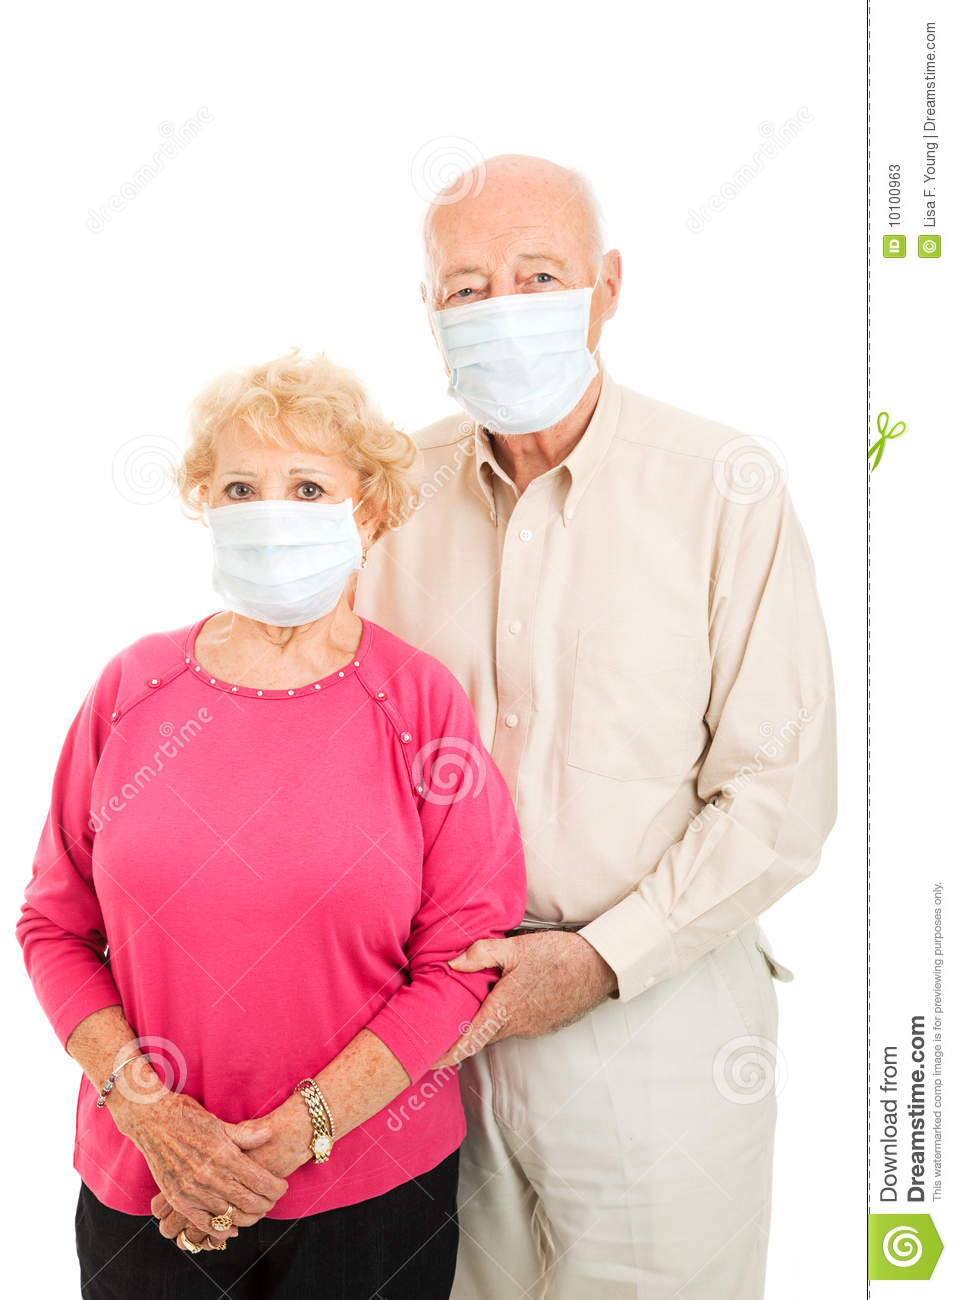mask: (432, 288, 608, 441), (198, 496, 364, 633)
